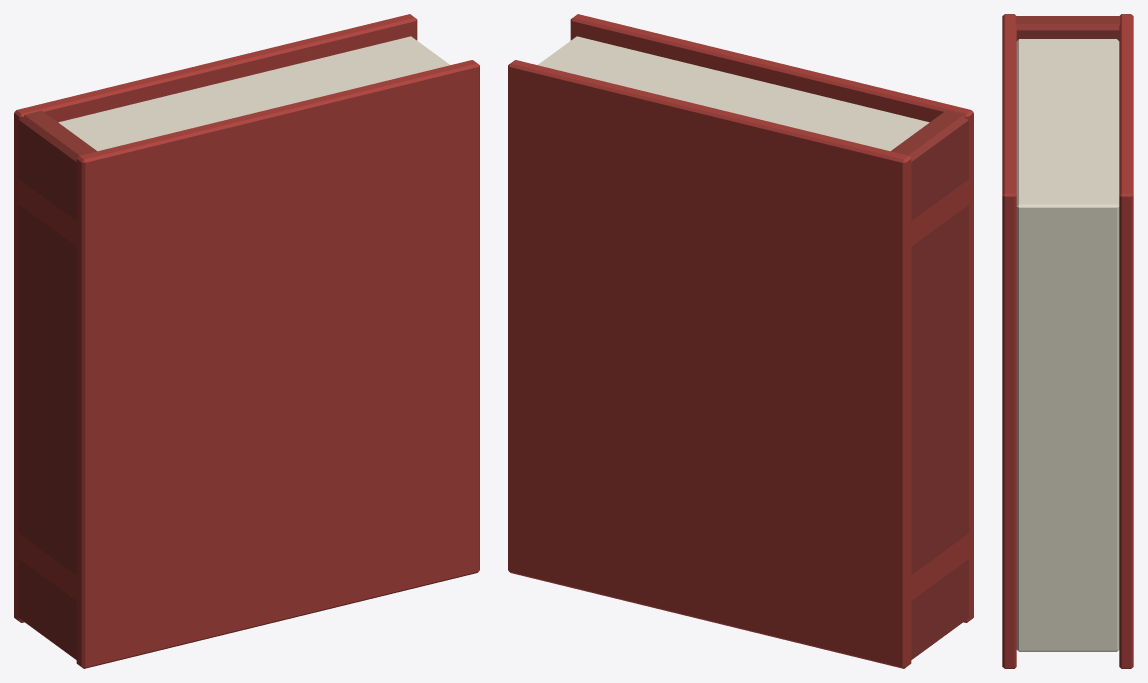
File: book.glb
3 renders of one model, left to right at view 1: azimuth 30°, elevation 25°; view 2: azimuth 150°, elevation 25°; view 3: azimuth 270°, elevation 25°, orthographic. The views are drawn at different scales.
Parts seen in each view (by area): view 1: Cream page block; view 2: Cream page block; view 3: Cream page block.
Boxes of the visible parts, x1,y1,x2,y2 form: Cream page block: (14,14,479,668); Cream page block: (508,14,973,668); Cream page block: (1002,14,1133,668).
Bounding box in the file's own units: 0.18 × 0.22 × 0.055.
